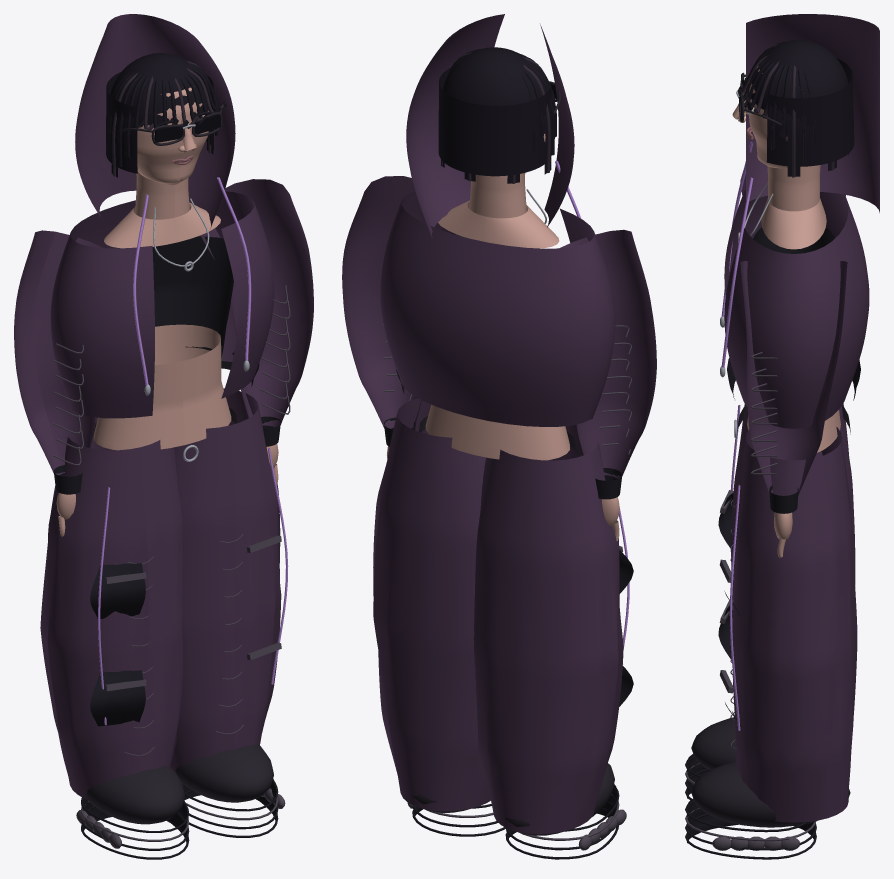
File: look-8-detail.glb
3 renders of one model, left to right at view 1: azimuth 30°, elevation 25°; view 2: azimuth 150°, elevation 25°; view 3: azimuth 270°, elevation 25°, orthographic. The views are drawn at different scales.
Parts seen in each view (by area): view 1: look-8-detail, leg-0, leg-1, arm-1, arm-0; view 2: look-8-detail, leg-0, leg-1, arm-0, arm-1; view 3: look-8-detail, leg-1, arm-1, leg-0.
Boxes of the visible parts, x1,y1,x2,y2 form: look-8-detail: (50, 14, 274, 461); leg-0: (40, 417, 189, 859); leg-1: (170, 388, 288, 837); arm-1: (200, 179, 313, 484); arm-0: (14, 230, 103, 536); look-8-detail: (380, 14, 615, 460); leg-0: (473, 424, 633, 859); leg-1: (373, 398, 505, 836); arm-0: (559, 229, 656, 541); arm-1: (342, 176, 457, 458); look-8-detail: (720, 14, 879, 452); leg-1: (685, 427, 857, 859); arm-1: (740, 261, 847, 557); leg-0: (685, 403, 855, 800).
Size of the model in its own units: 0.8164 by 2.08 by 0.4647.
